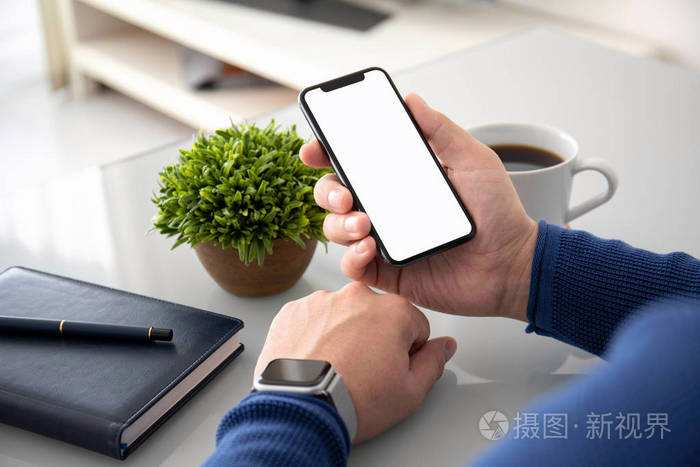reading: (296, 61, 532, 321)
